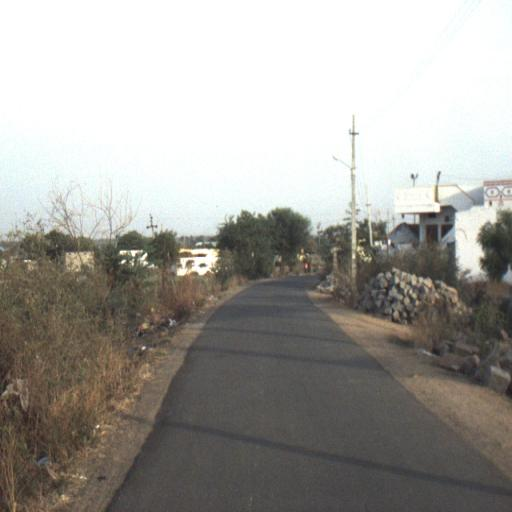street_light_0: (332, 155, 356, 184)
